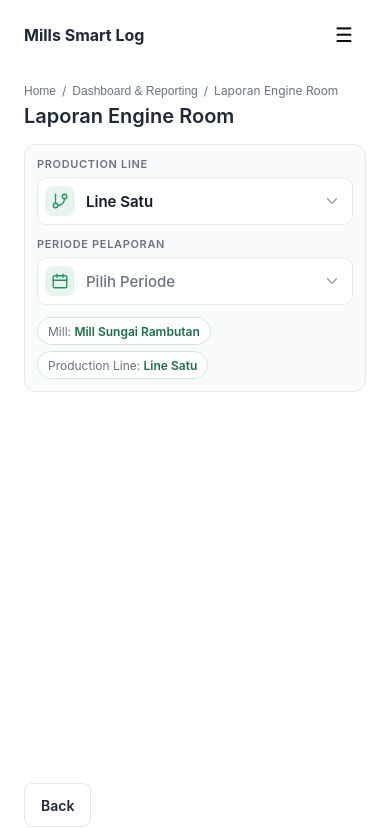
Scenario: kelengkapan pencatatan › skenario 12/57: slot terisi MELAMPAUI penyebut setiap kartu, dengan keterangan 27 kolom
Select "Engine Room — Periode Uji Engine Room" in the dropdown with test id "period-select" at coordinates (195, 281), box [37, 257, 353, 305]
(page scrolled)
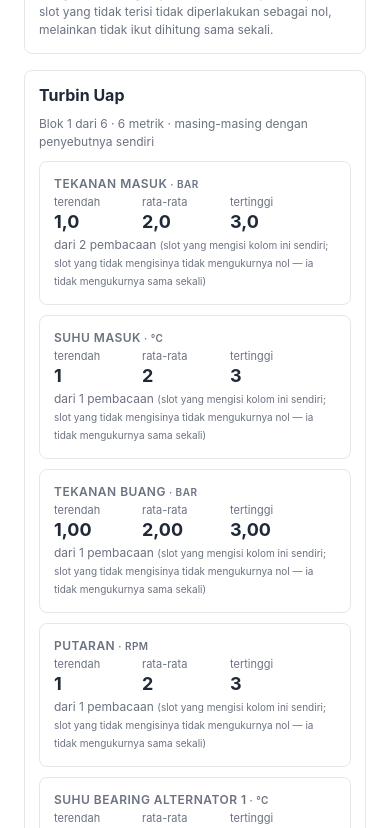
Check: the number of elements with test id "metric-denominator" is 22
